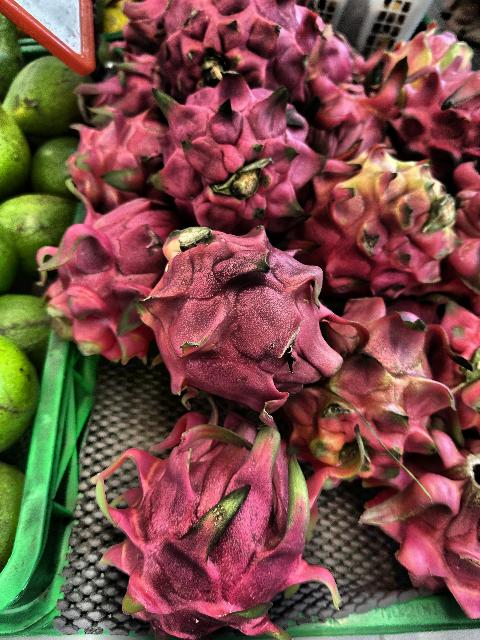buah-naga-belum-matang: (309, 284, 439, 476), (313, 147, 456, 295), (364, 10, 472, 108)
buah-naga-matang: (89, 404, 335, 640), (144, 226, 344, 406), (146, 80, 318, 226), (36, 192, 172, 360), (394, 434, 480, 622), (151, 0, 301, 104), (380, 63, 480, 169)
